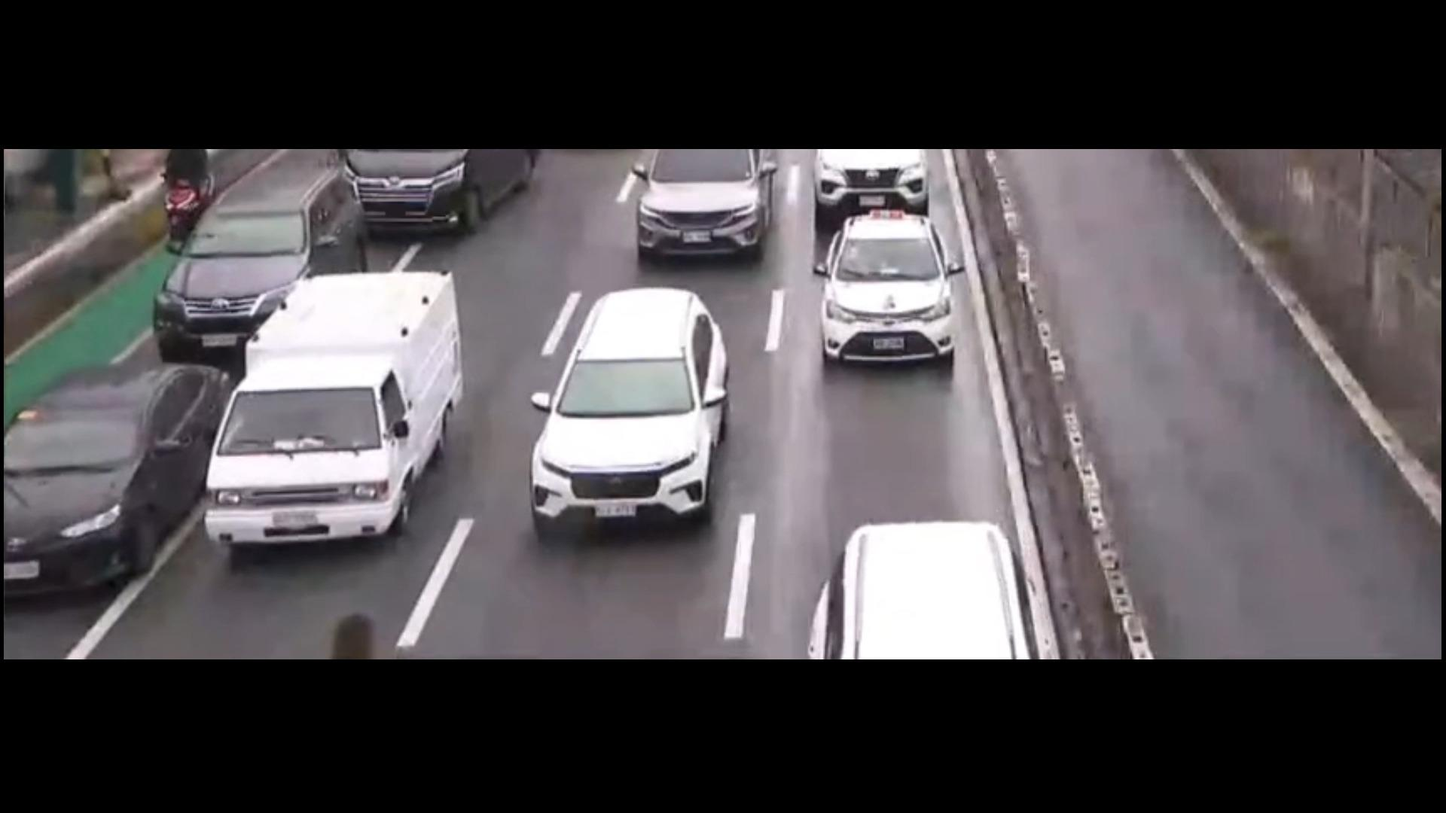Motorcycle: (151, 142, 211, 245)
SUV: (516, 273, 767, 572), (157, 142, 381, 365), (614, 145, 787, 277)
Sedan: (0, 307, 224, 600), (797, 187, 1004, 379)
Truck: (196, 238, 526, 560)
